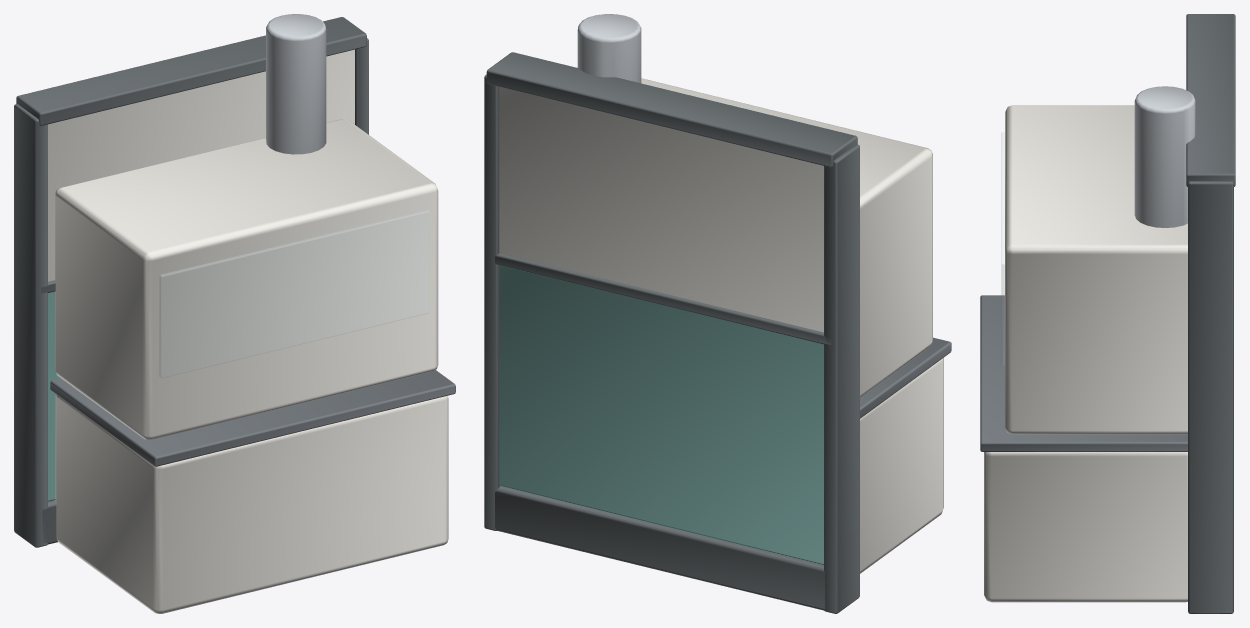
Rendered from sala_campana.glb.
3 views of the same model, side by side, from view 1: azimuth 30°, elevation 25°; view 2: azimuth 150°, elevation 25°; view 3: azimuth 270°, elevation 25° (orthographic). The views are drawn at different scales.
Parts seen in each view (by area): view 1: campana_caja, campana_mueble, campana_guillotina, pared_alta, pared_perfil-0.49, campana_encimera, pared_remate, campana_tubo, pared_panel, pared_perfil0.49, pared_zocalo; view 2: pared_panel, pared_alta, campana_caja, pared_perfil-0.49, pared_zocalo, pared_remate, campana_mueble, pared_perfil0.49, pared_canto, campana_tubo, campana_encimera; view 3: campana_caja, campana_mueble, pared_perfil0.49, pared_remate, campana_tubo, campana_encimera, campana_guillotina.
Boxes of the visible parts, box(x1,y1,x2,y2) form: campana_caja: box(55, 119, 438, 439); campana_mueble: box(55, 394, 448, 613); campana_guillotina: box(159, 210, 428, 377); pared_alta: box(48, 49, 354, 281); pared_perfil-0.49: box(14, 104, 47, 547); campana_encimera: box(50, 370, 455, 466); pared_remate: box(16, 17, 366, 125); campana_tubo: box(266, 14, 326, 154); pared_panel: box(48, 291, 60, 501); pared_perfil0.49: box(355, 38, 368, 134); pared_zocalo: box(42, 500, 57, 544); pared_panel: box(499, 265, 823, 565); pared_alta: box(499, 87, 823, 332); campana_caja: box(641, 78, 932, 397); pared_perfil-0.49: box(824, 144, 859, 613); pared_zocalo: box(495, 486, 825, 610); pared_remate: box(486, 52, 857, 167); campana_mueble: box(860, 358, 943, 573); pared_perfil0.49: box(484, 74, 499, 530); pared_canto: box(495, 253, 831, 344); campana_tubo: box(577, 14, 641, 83); campana_encimera: box(860, 337, 951, 418); campana_caja: box(1005, 105, 1187, 434); campana_mueble: box(984, 452, 1187, 602); pared_perfil0.49: box(1188, 181, 1233, 613); pared_remate: box(1186, 14, 1235, 186); campana_tubo: box(1134, 86, 1195, 227); campana_encimera: box(980, 295, 1187, 451); campana_guillotina: box(1001, 132, 1004, 366).
Size of the model in its own units: 1.02 by 1.38 by 0.67.
